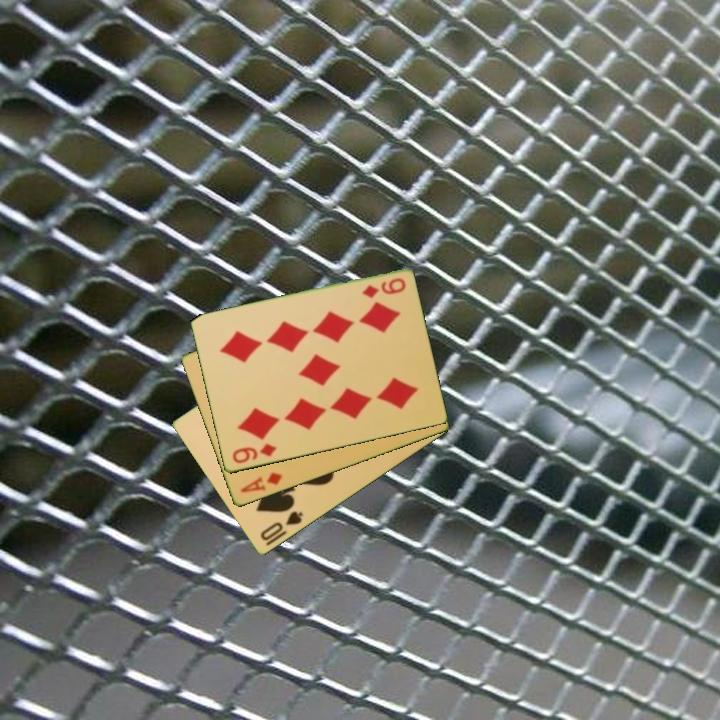10s: (257, 508, 305, 544)
9d: (229, 440, 279, 467), (358, 275, 408, 302)
Ad: (237, 469, 285, 496)
